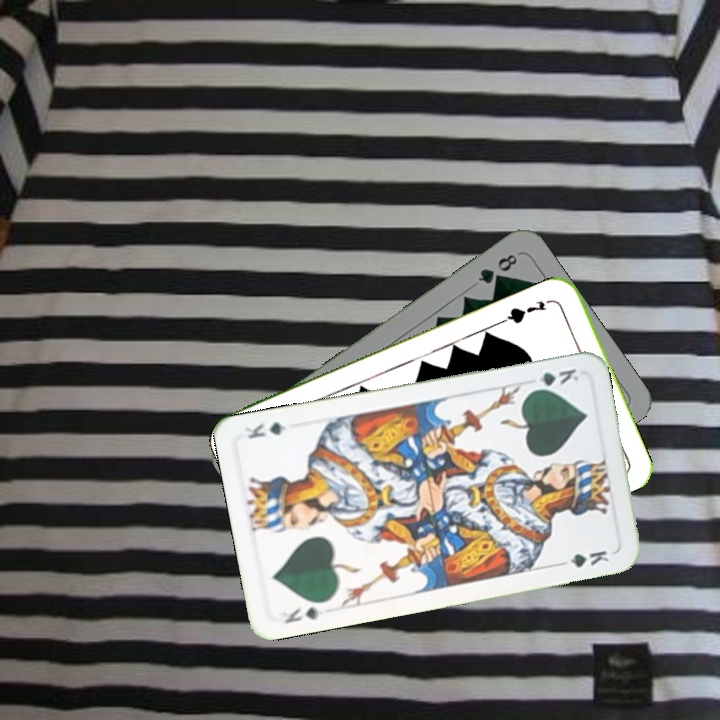G7: (499, 296, 549, 327)
G8: (473, 249, 520, 287)
GK: (526, 364, 582, 394), (273, 602, 326, 626)
